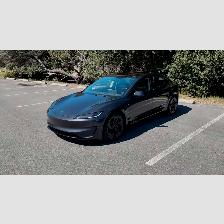EV: (48, 70, 181, 143)
